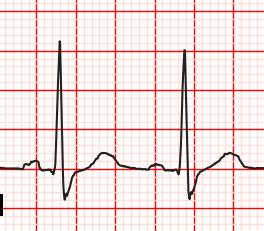ST Depression: (30, 157, 87, 204), (160, 158, 208, 204)
